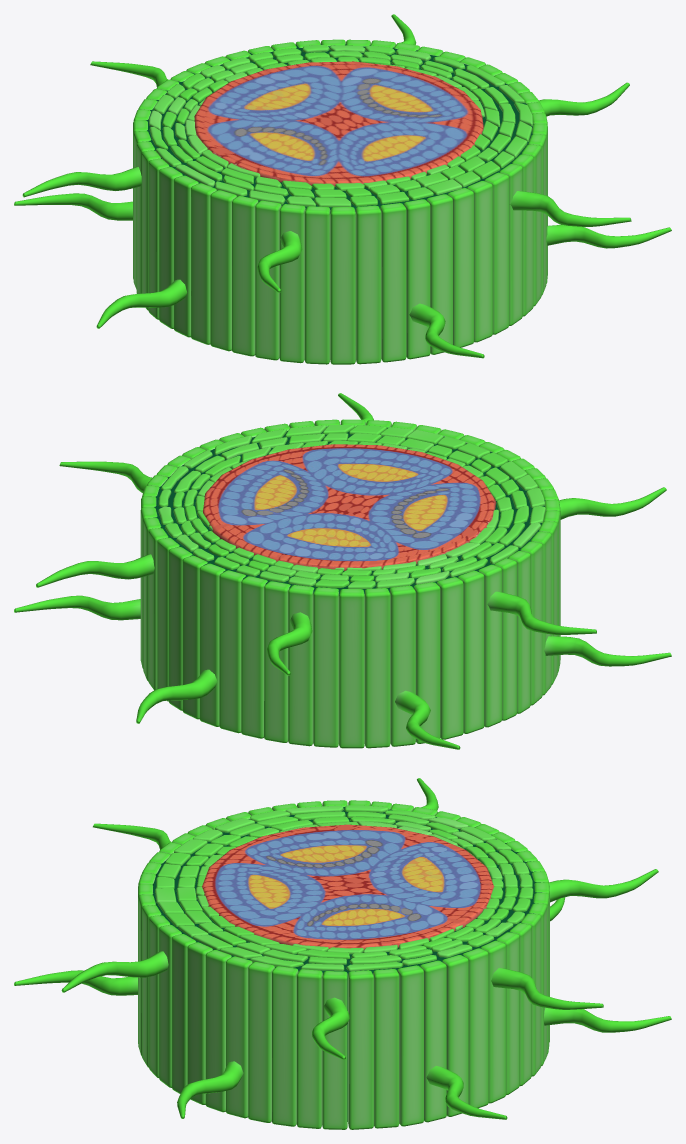
3 views of the same model, one above another, from view 1: azimuth 30°, elevation 25°; view 2: azimuth 150°, elevation 25°; view 3: azimuth 270°, elevation 25° (orthographic).
Visible parts, largest first — view 1: polySurface207, pCylinder3, polySurface67; view 2: polySurface207, pCylinder3, polySurface67; view 3: polySurface207, pCylinder3, polySurface67.
Part boxes in pixels (x1,y1,x2,y2): polySurface207: (14, 14, 671, 364); pCylinder3: (146, 44, 533, 213); polySurface67: (149, 45, 532, 207); polySurface207: (14, 393, 671, 749); pCylinder3: (153, 427, 545, 595); polySurface67: (158, 425, 545, 588); polySurface207: (14, 778, 671, 1129); pCylinder3: (152, 807, 541, 1121); polySurface67: (155, 805, 533, 971).
Size of the model in its own units: 0.0674 by 0.0178 by 0.0671.
3 materials, 3 textured.
